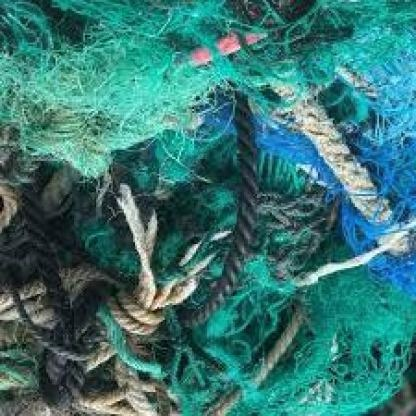net: (2, 2, 416, 416)
